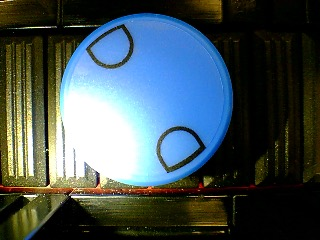MIPO2: (59, 12, 234, 187)
